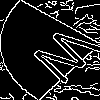W: (25, 25, 100, 91)
